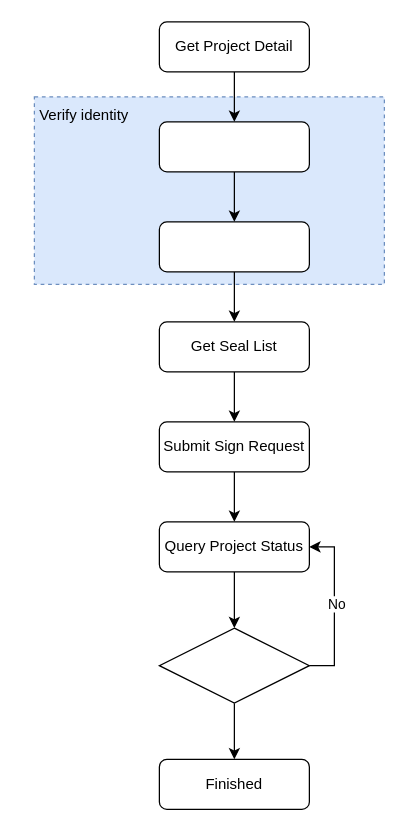
This 406x831 diagram has some shape labels left out. Each missing label, with the centre of its shape:
"All files has been signed?" goes at point 233,665.
"Send Captcha" goes at point 233,146.
"Validate Captcha" goes at point 233,246.
